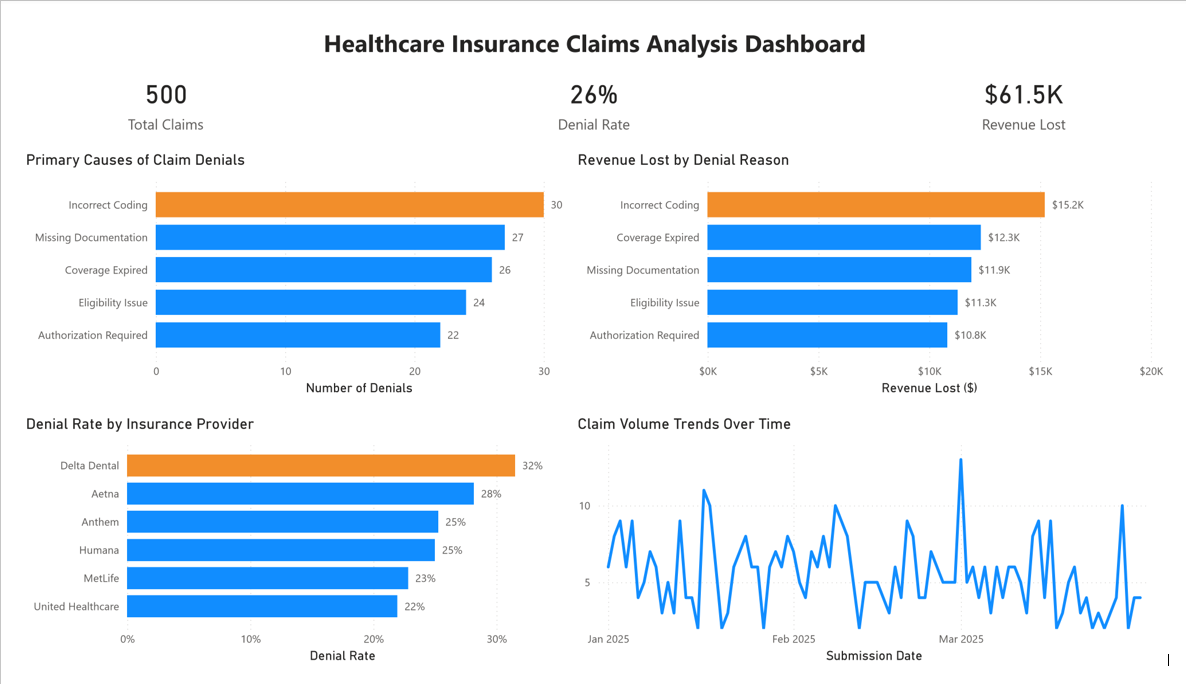

What the dashboard file says about the page in this screenshot:
{"tool":"powerbi","page":{"name":"Page 1","canvas":[1280,720],"ordinal":0},"visuals":[{"type":"card","fields":{"Values":["claims.Denial Rate"]},"box":[478,50,322,80],"z":0},{"type":"card","fields":{"Values":["claims.Revenue Lost"]},"box":[958,50,322,80],"z":1000},{"type":"card","fields":{"Values":["claims.Total Claims"]},"box":[0,50,322,80],"z":2000},{"type":"barChart","title":"Primary Causes of Claim Denials","fields":{"Category":["claims.Denial_Reason"],"Y":["CountNonNull(claims.Denial_Status)"]},"box":[0,144,616,278],"z":3000},{"type":"barChart","title":"Revenue Lost by Denial Reason","fields":{"Category":["claims.Denial_Reason"],"Y":["claims.Revenue Lost"]},"box":[616,144,664,278],"z":4000},{"type":"barChart","title":"Denial Rate by Insurance Provider","fields":{"Category":["claims.Insurance_Provider"],"Y":["claims.Denial Rate"]},"box":[0,439,616.2,281.6],"z":5000},{"type":"lineChart","title":"Claim Volume Trends Over Time","fields":{"Y":["CountNonNull(claims.Claim_ID)"],"Category":["claims.Submission_Date.Variation.Date Hierarchy.Year","claims.Submission_Date.Variation.Date Hierarchy.Quarter","claims.Submission_Date.Variation.Date Hierarchy.Month","claims.Submission_Date.Variation.Date Hierarchy.Day"]},"box":[616.2,439,664.2,281.6],"z":6000},{"type":"textbox","box":[322,0,636,50],"z":7000}]}

Visuals, with their boxes in screenshot pixels (x1, y1, x2, y2), scaled from the page's 1280x720 canvas onto the 1186x684 screenshot:
card - claims.Denial Rate: x1=443 y1=48 x2=741 y2=124
card - claims.Revenue Lost: x1=888 y1=48 x2=1185 y2=124
card - claims.Total Claims: x1=0 y1=48 x2=298 y2=124
"Primary Causes of Claim Denials" barChart: x1=0 y1=137 x2=571 y2=401
"Revenue Lost by Denial Reason" barChart: x1=571 y1=137 x2=1185 y2=401
"Denial Rate by Insurance Provider" barChart: x1=0 y1=417 x2=571 y2=683
"Claim Volume Trends Over Time" lineChart: x1=571 y1=417 x2=1185 y2=683
textbox: x1=298 y1=0 x2=888 y2=48
